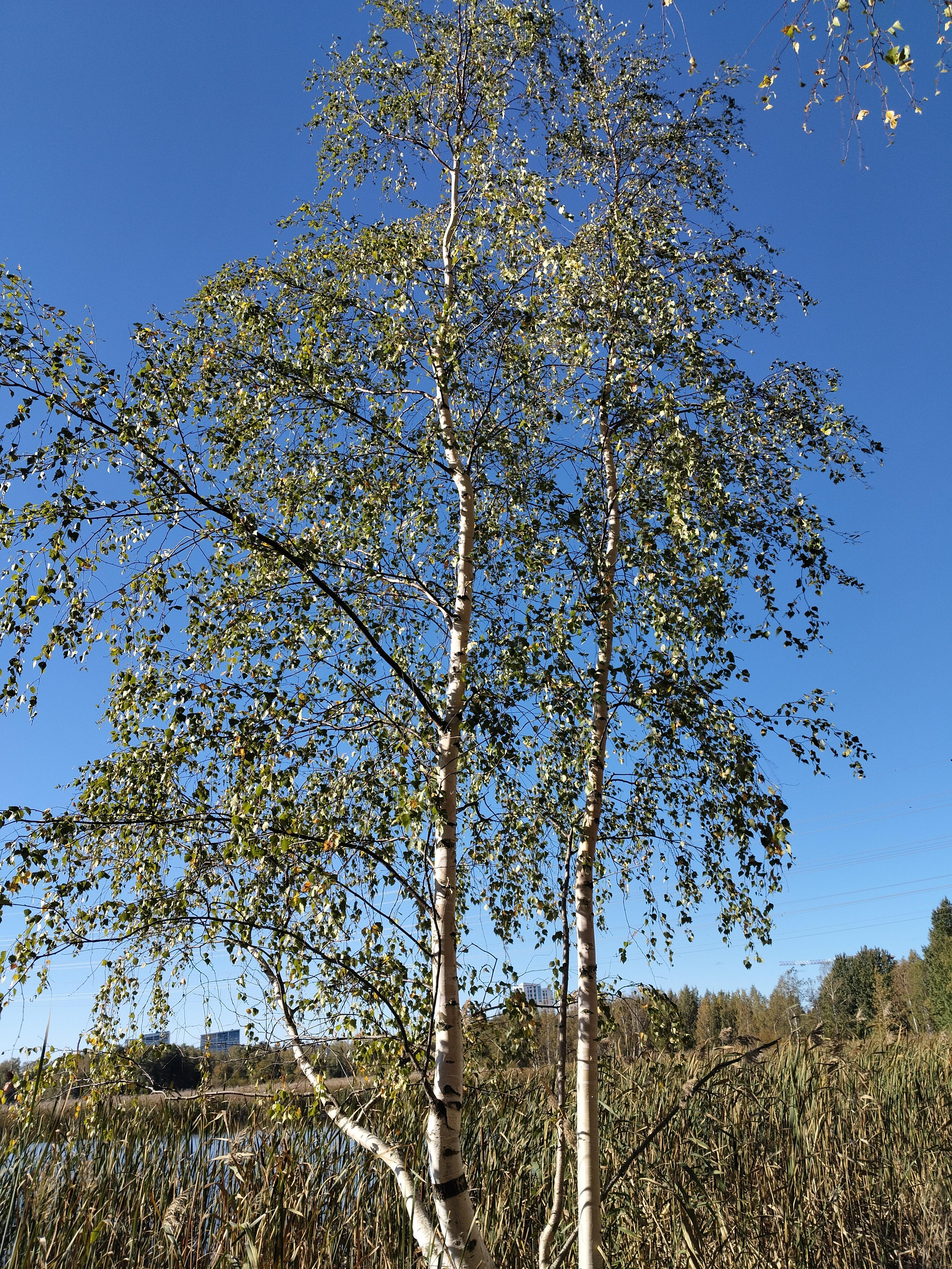Birch: (2, 1, 945, 1267), (33, 24, 556, 1249), (499, 0, 839, 1246)
